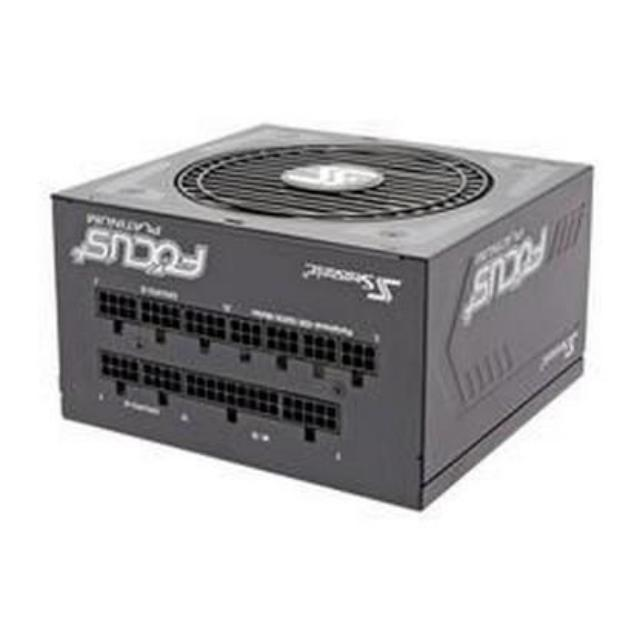PSU: (44, 109, 604, 522)
